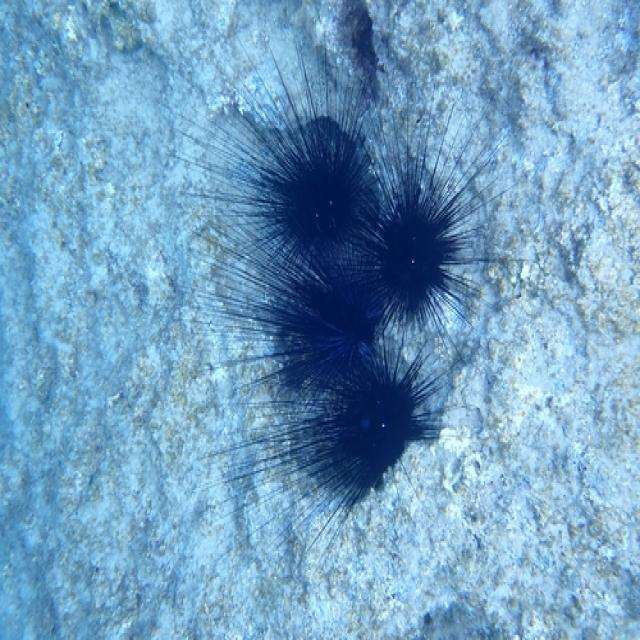Urchin: (202, 342, 453, 550), (350, 87, 520, 331), (198, 46, 386, 265), (233, 246, 406, 387)
